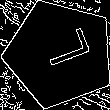L_W: (30, 31, 90, 77)
